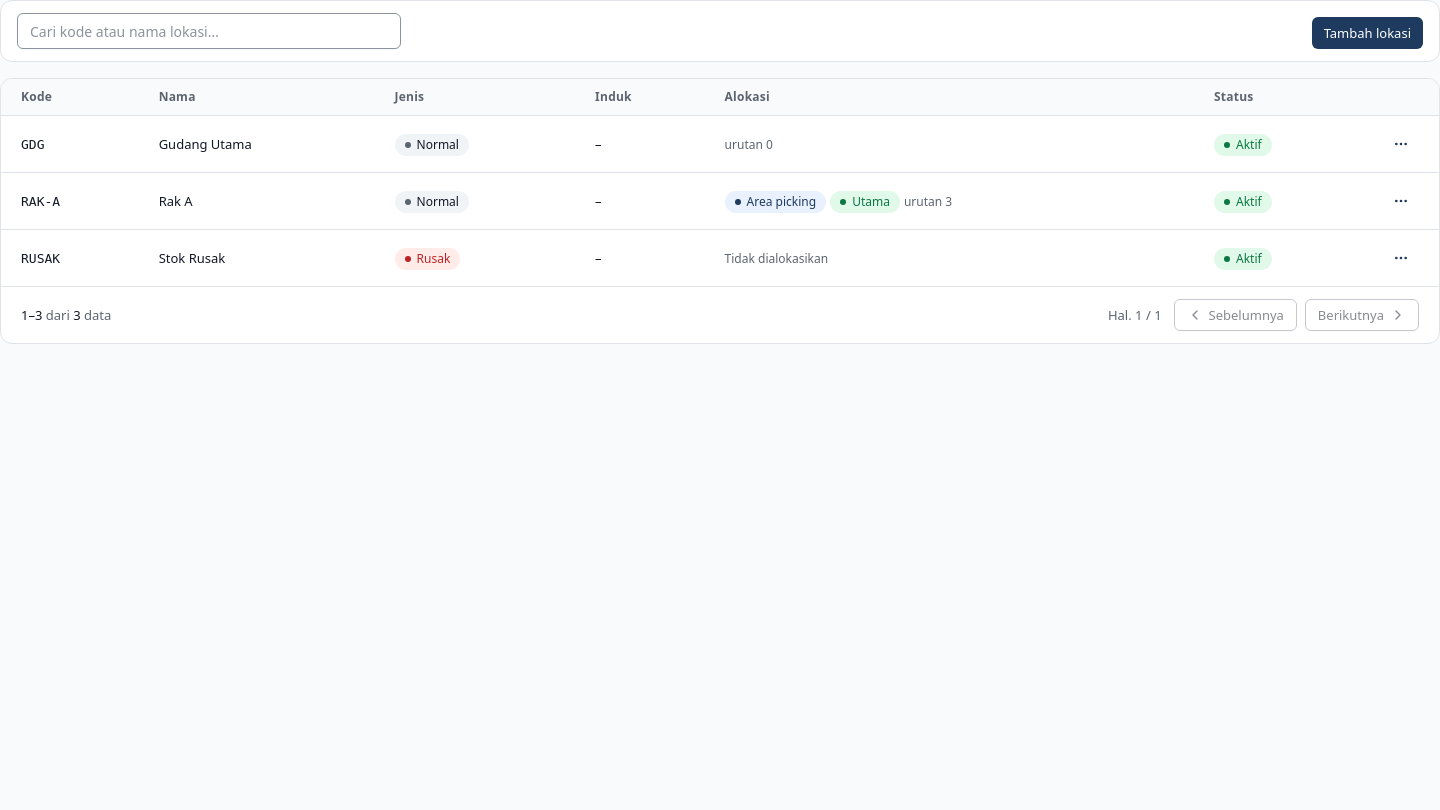
Test: StockLocationTab — atribut lokasi (ST-01) › lokasi sistem menjaga kode tetapi atributnya bisa diatur
The width and height of the screenshot is (1440, 810).
Click the button named "Aksi untuk lokasi GDG" at (1401, 144), box left=1383, top=126, right=1419, bottom=162
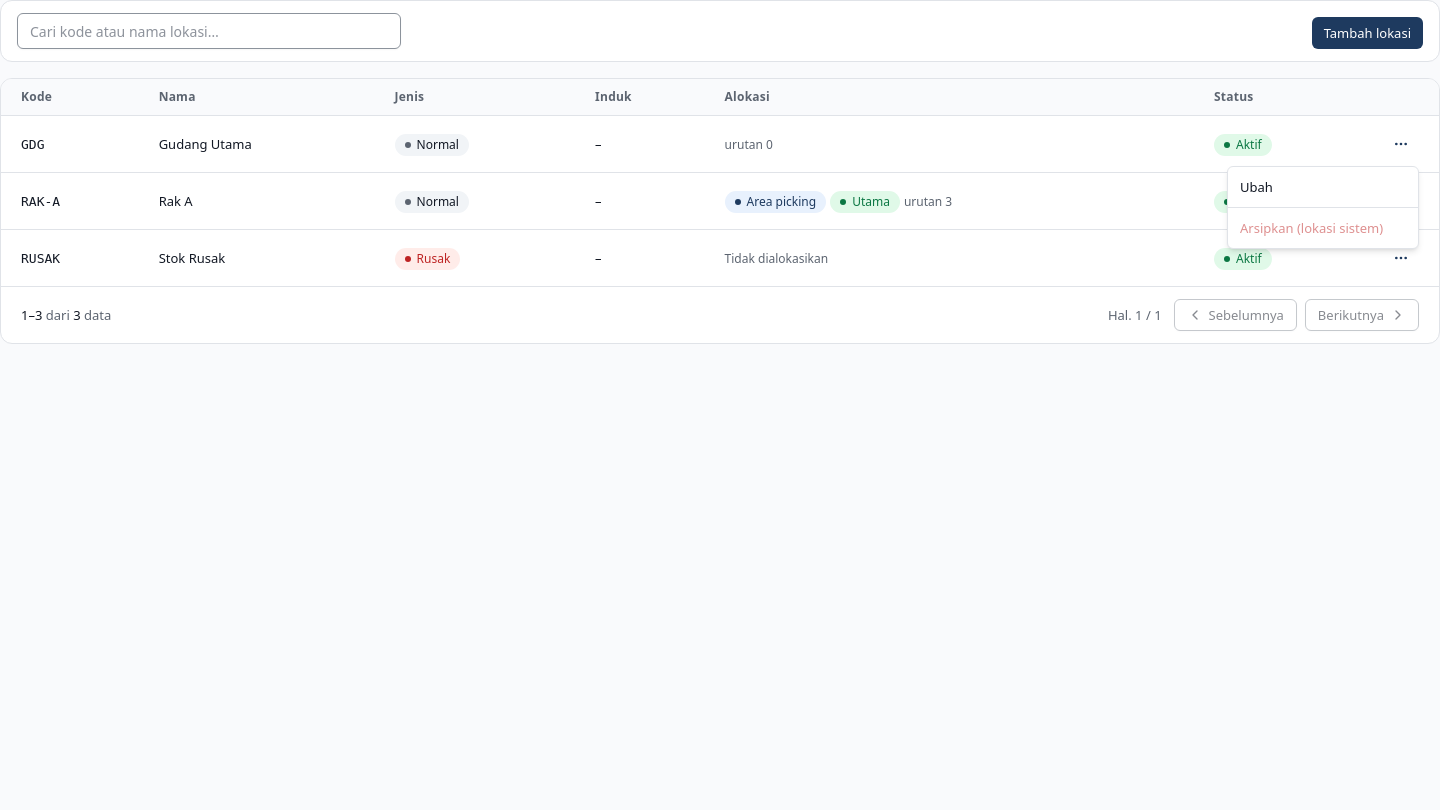
Click the menu item "Ubah" at (1256, 187), box left=1240, top=178, right=1273, bottom=196
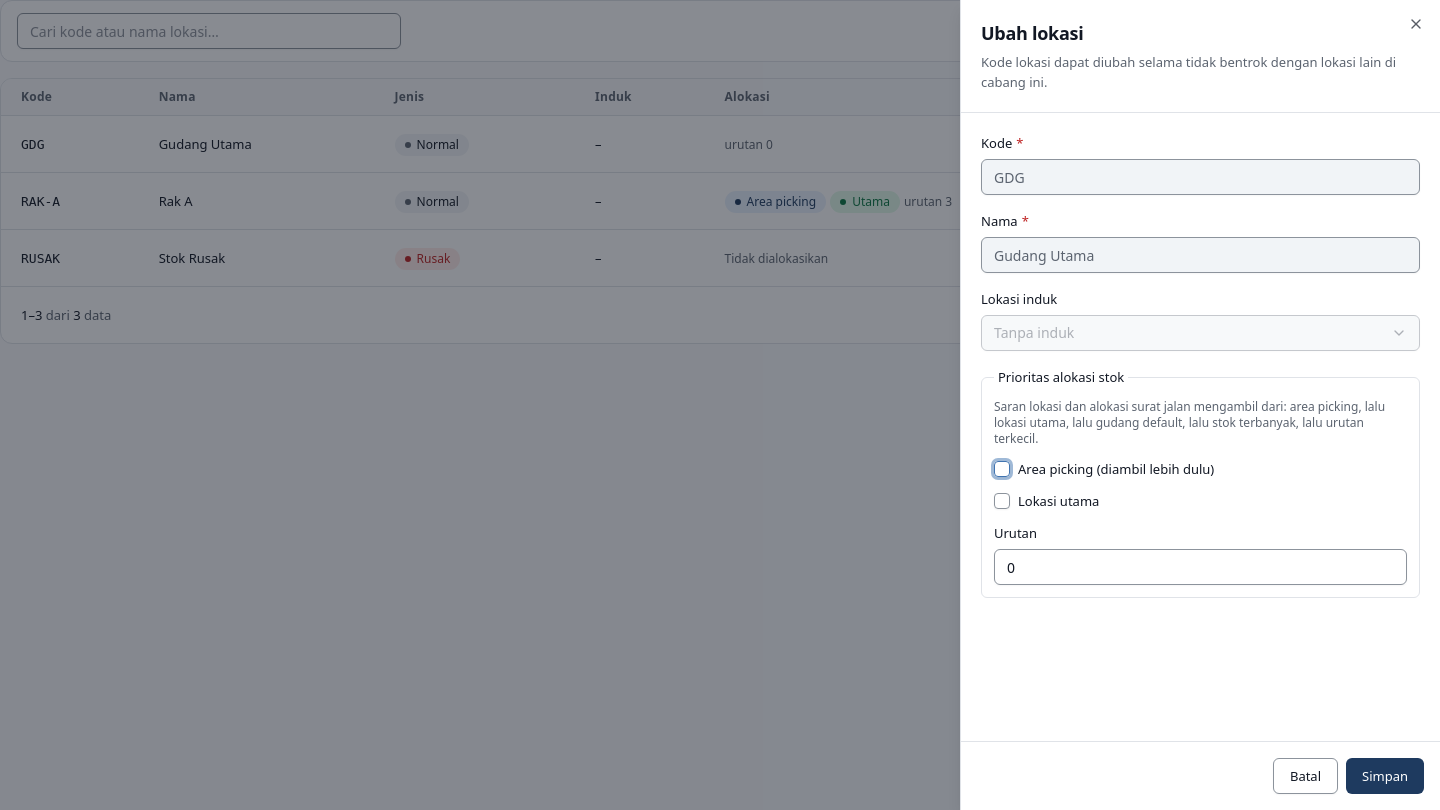
Now the field labelled "Kode *" is disabled, box left=981, top=159, right=1420, bottom=195
Now the checkbox named "Lokasi utama" is enabled, box left=994, top=493, right=1010, bottom=509
